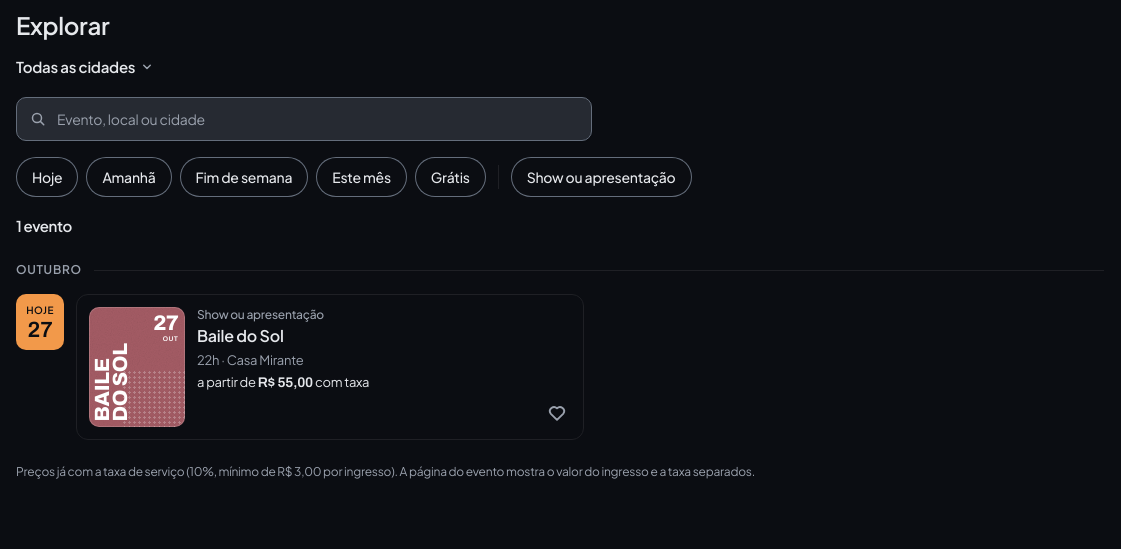
Test: Explorar (V11b) › busca sem resultado: frase com o termo e "Limpar busca"; vírgula e aspas não quebram
The image size is (1121, 549).
expect the heading "1 evento" is shown: met, box [16,217,72,234]
Type "rock, (ao \"vivo\")" into the search field at (304, 119), box [16,97,592,141]
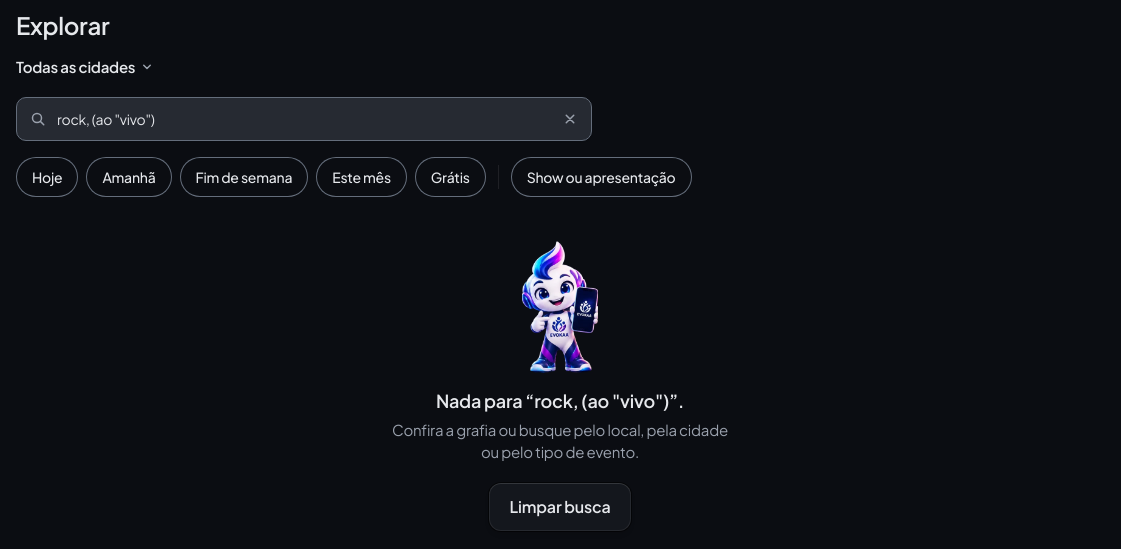
expect the text "Nada para “rock, (ao \"vivo\")”." is shown: met, box [436,389,684,413]
Click the button "Limpar busca" at (560, 507), box [490,483,630,531]
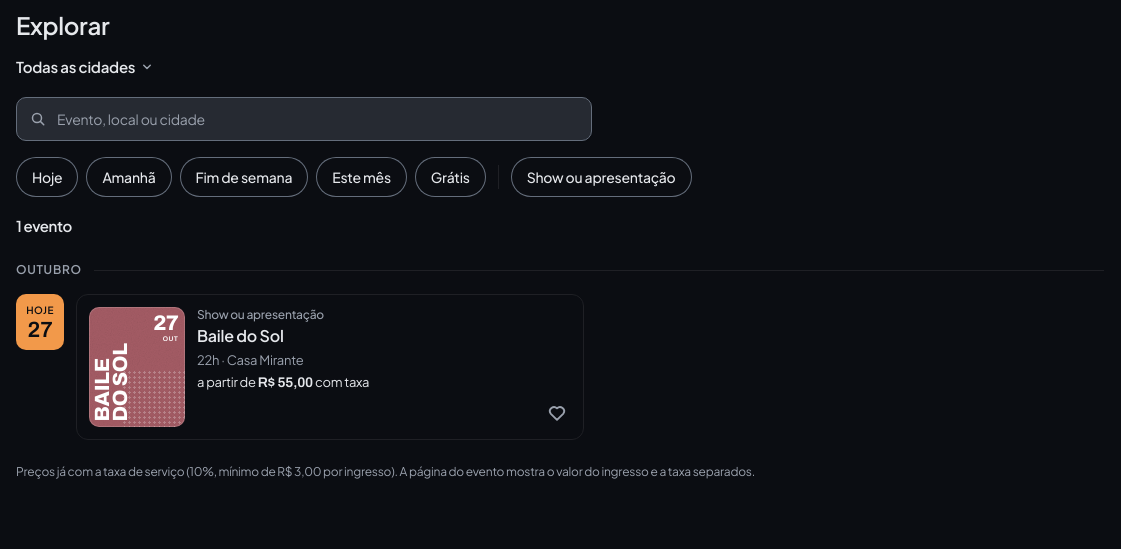
expect the heading "1 evento" is shown: met, box [16,217,72,234]
